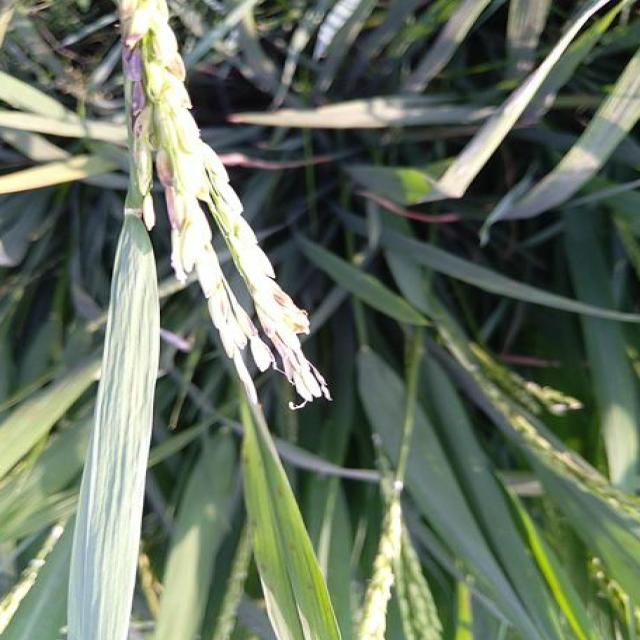Panicle Blight: (268, 279, 309, 336), (124, 31, 146, 137), (261, 317, 299, 376), (156, 149, 180, 231)
